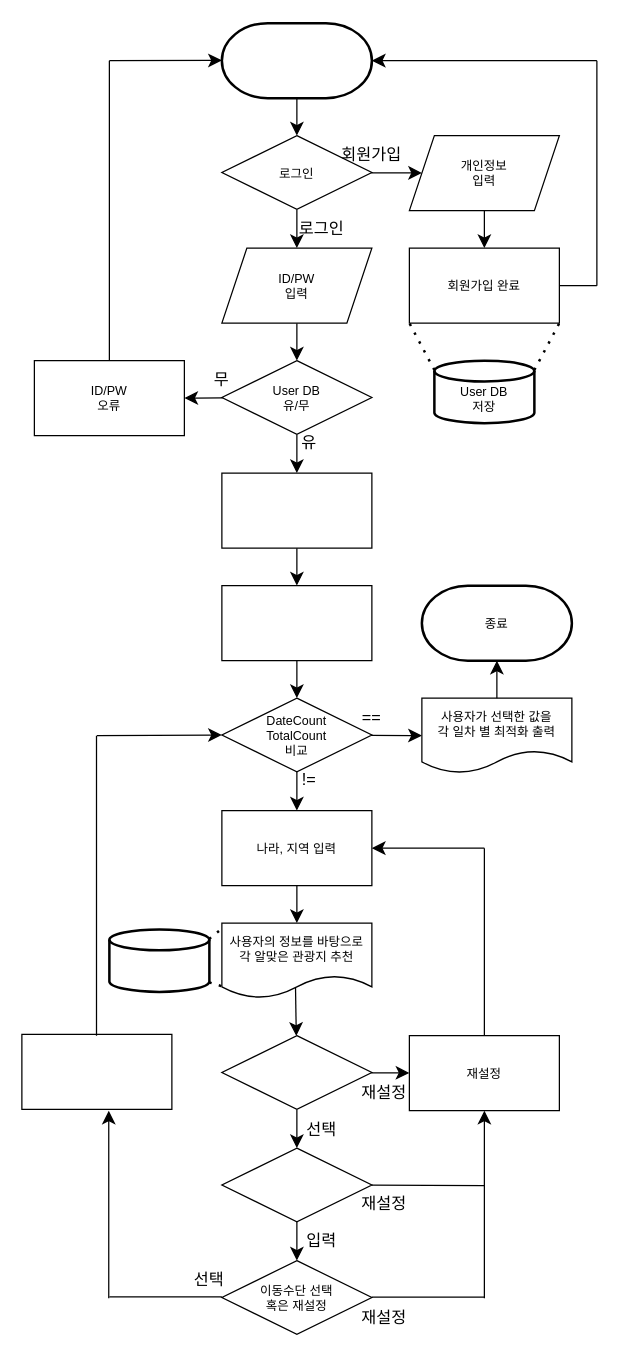
Image size: 620x1356. Some labels were removed from this diagram. The shapes that lost their labels are listed below. From the top down, each one's centre as x and y in pixels, then its label:
pixel 296 60: 로그인 화면 출력 (login.html)
pixel 296 510: 로그인 진행 완료 시작/종료 날짜 입력
pixel 296 622: 사용자의 정보 입력 (나이/관계/성별)
pixel 159 960: Spot DB Grade DB
pixel 96 1071: DateCount +1
pixel 296 1071: 기본/추천 관광 선택 혹은 재설정
pixel 296 1184: 숙소 입력 혹은 재설정
